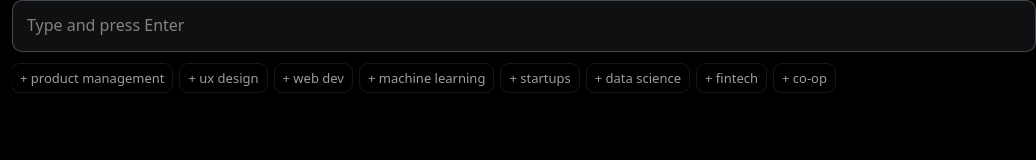
Test: TagInput › adds on Enter and splits on commas
This screenshot has width=1036, height=160.
Type "fintech, AI" into the field. click: (524, 26)
box: [23,9,1025,43]
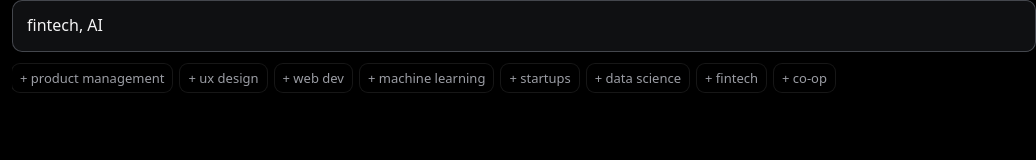
Press Enter in the field, box [23,9,1025,43]
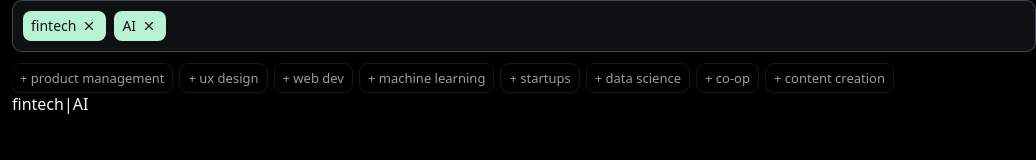
Expected: the text with test id "out" reads "fintech|AI", [12,93,88,115]
